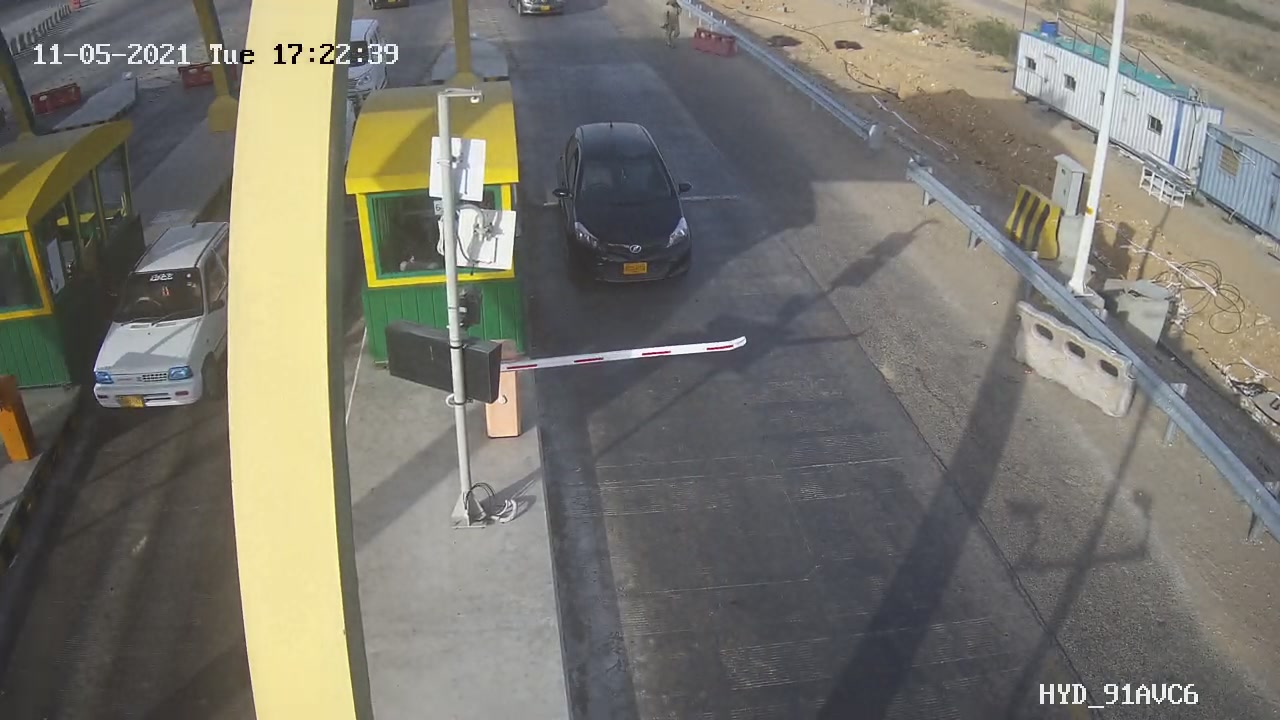F1: (533, 108, 727, 308)
